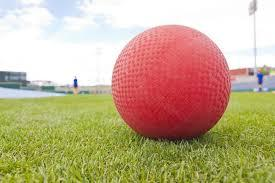Red_Ball: (100, 22, 235, 141)
